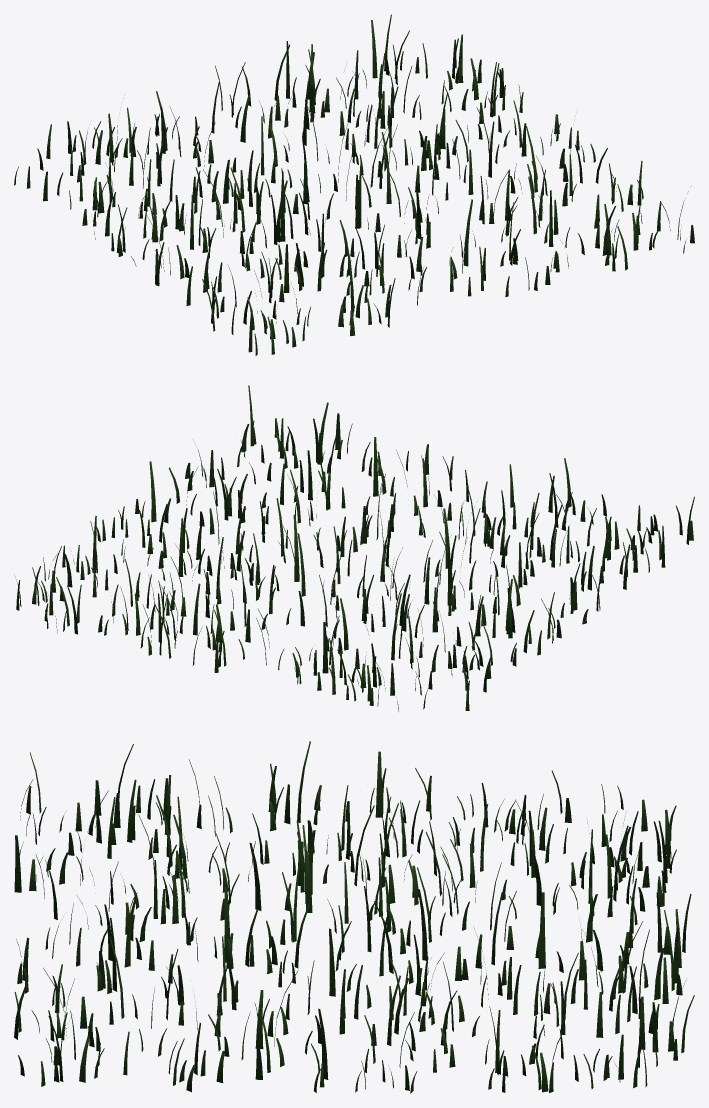
File: Turf_Shade_v3.glb
3 views of the same model, one above another, from view 1: azimuth 30°, elevation 25°; view 2: azimuth 150°, elevation 25°; view 3: azimuth 270°, elevation 25° (orthographic). The views are drawn at different scales.
Parts seen in each view (by area): view 1: Turf_Shade_v3; view 2: Turf_Shade_v3; view 3: Turf_Shade_v3.
Part boxes in pixels (<box>): Turf_Shade_v3: <box>14,14,694,355</box>; Turf_Shade_v3: <box>14,385,694,711</box>; Turf_Shade_v3: <box>14,741,694,1093</box>.
Size of the model in its own units: 1.24 by 0.1583 by 1.24.
